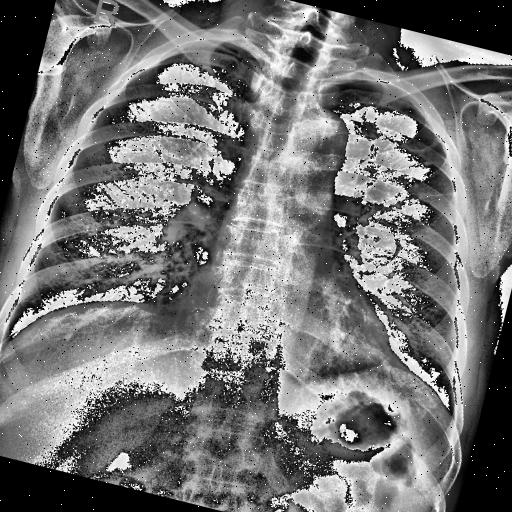13- Pulmonary fibrosis: (340, 114, 476, 276), (354, 130, 472, 224), (408, 182, 464, 212), (412, 154, 450, 172)
